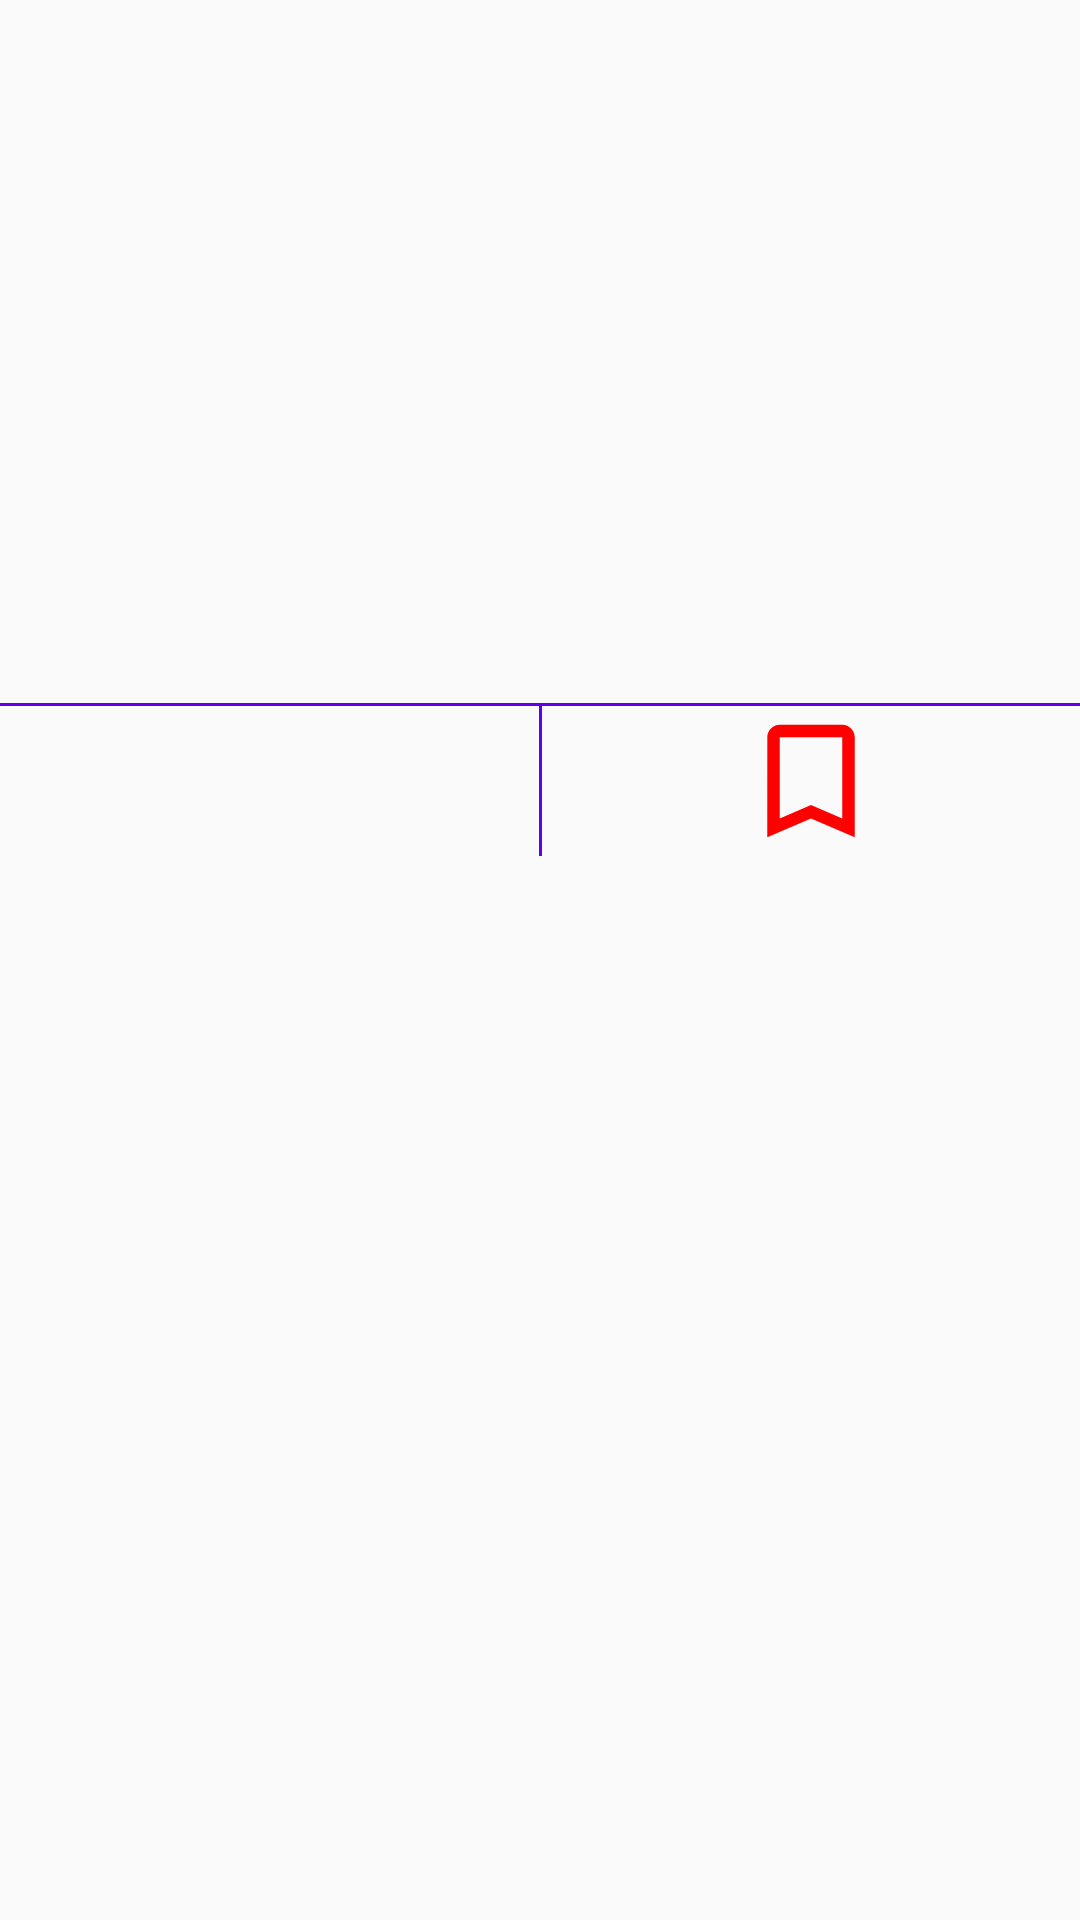

Icon bounding boxes for this 1080*1920 phone screenshot, format (x1, y1, x2, y2):
bookmark border: (767, 724, 855, 837)
